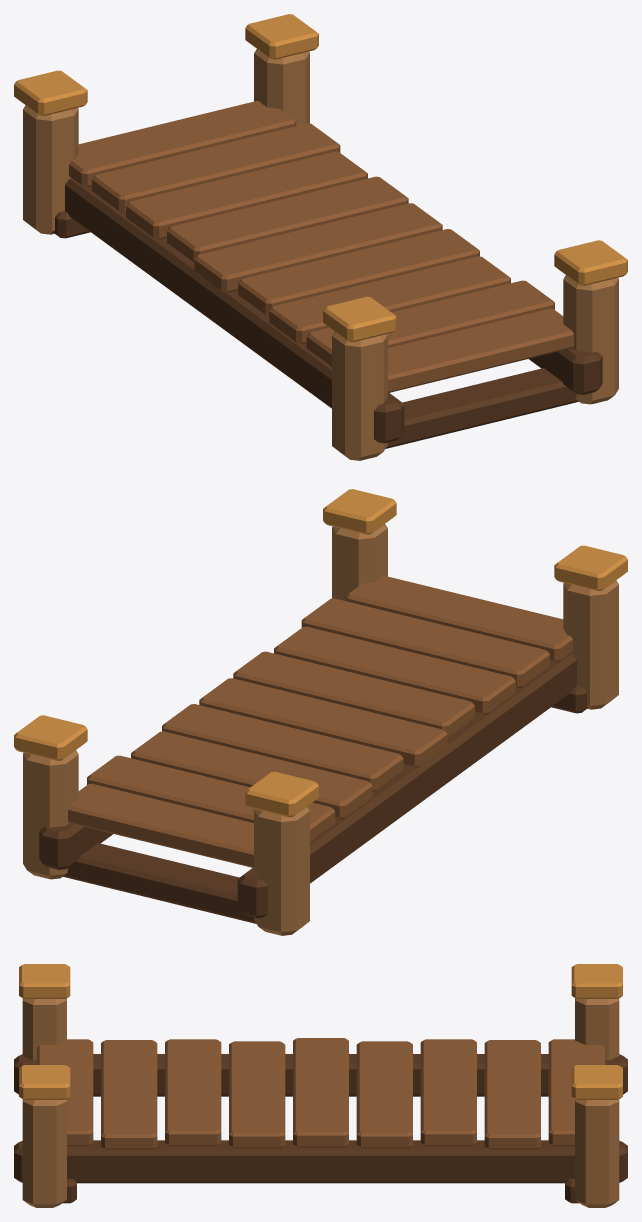
The model's file is Bogheart_Bridge.glb.
3 renders of one model, top to bottom at view 1: azimuth 30°, elevation 25°; view 2: azimuth 150°, elevation 25°; view 3: azimuth 270°, elevation 25°, orthographic. The views are drawn at different scales.
Parts seen in each view (by area): view 1: Bridge, Bridge_plank_4, Bridge_plank_1, Bridge_plank_8, Bridge_plank_2, Bridge_plank_5, Bridge_plank_3, Bridge_plank_0, Bridge_plank_6, Bridge_plank_7; view 2: Bridge, Bridge_plank_4, Bridge_plank_7, Bridge_plank_0, Bridge_plank_6, Bridge_plank_3, Bridge_plank_5, Bridge_plank_8, Bridge_plank_2, Bridge_plank_1; view 3: Bridge, Bridge_plank_1, Bridge_plank_7, Bridge_plank_4, Bridge_plank_2, Bridge_plank_3, Bridge_plank_5, Bridge_plank_6, Bridge_plank_0, Bridge_plank_8.
Boxes of the visible parts, x1=… form: Bridge: x1=14, y1=14, x2=627, y2=460; Bridge_plank_4: x1=194, y1=203, x2=442, y2=292; Bridge_plank_1: x1=92, y1=123, x2=340, y2=212; Bridge_plank_8: x1=388, y1=308, x2=573, y2=392; Bridge_plank_2: x1=126, y1=151, x2=367, y2=239; Bridge_plank_5: x1=238, y1=229, x2=479, y2=316; Bridge_plank_3: x1=167, y1=176, x2=408, y2=262; Bridge_plank_0: x1=69, y1=100, x2=296, y2=187; Bridge_plank_6: x1=269, y1=256, x2=510, y2=344; Bridge_plank_7: x1=306, y1=280, x2=554, y2=366; Bridge: x1=14, y1=489, x2=627, y2=935; Bridge_plank_4: x1=199, y1=678, x2=447, y2=767; Bridge_plank_7: x1=301, y1=598, x2=549, y2=687; Bridge_plank_0: x1=68, y1=783, x2=253, y2=867; Bridge_plank_6: x1=274, y1=626, x2=515, y2=714; Bridge_plank_3: x1=162, y1=704, x2=403, y2=791; Bridge_plank_5: x1=233, y1=651, x2=474, y2=737; Bridge_plank_8: x1=345, y1=575, x2=572, y2=662; Bridge_plank_2: x1=131, y1=731, x2=372, y2=819; Bridge_plank_1: x1=87, y1=755, x2=335, y2=841; Bridge: x1=14, y1=964, x2=627, y2=1207; Bridge_plank_1: x1=484, y1=1040, x2=540, y2=1149; Bridge_plank_7: x1=101, y1=1040, x2=157, y2=1149; Bridge_plank_4: x1=293, y1=1038, x2=348, y2=1147; Bridge_plank_2: x1=420, y1=1039, x2=476, y2=1146; Bridge_plank_3: x1=356, y1=1041, x2=412, y2=1148; Bridge_plank_5: x1=229, y1=1041, x2=285, y2=1148; Bridge_plank_6: x1=165, y1=1039, x2=221, y2=1146; Bridge_plank_0: x1=548, y1=1039, x2=604, y2=1146; Bridge_plank_8: x1=37, y1=1039, x2=93, y2=1146.
Size of the model in its own units: 1.7 by 0.82 by 3.6.
